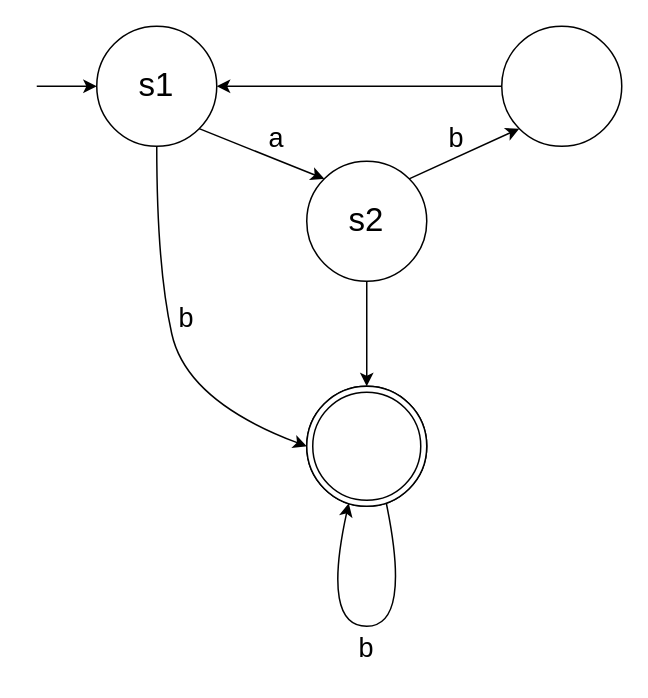
Some shapes in this 648 by 698 pixel diagram are drawn without their labels. Here are the shapes that lost their labels. From the top down, the centre of each, then its label:
pixel 561 85: s3
pixel 366 445: s4
